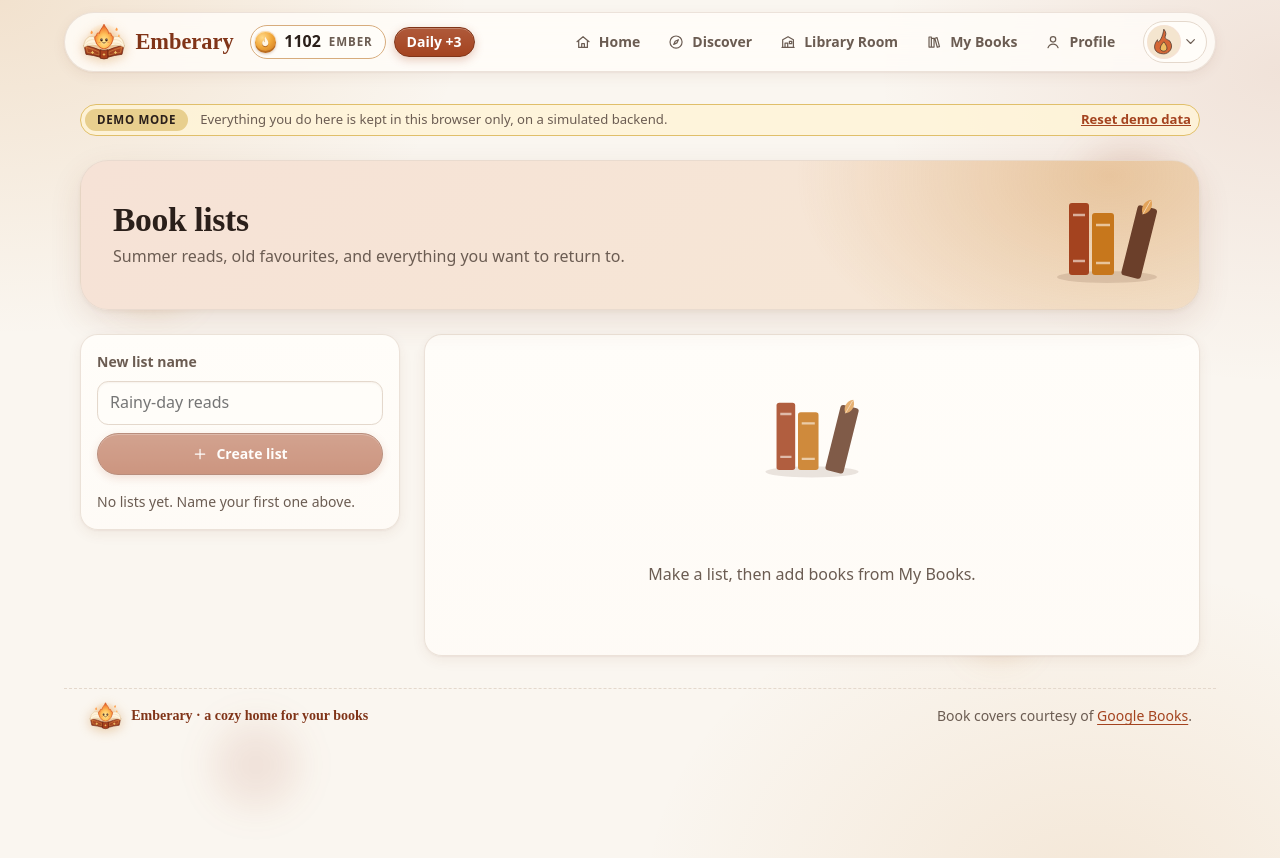
Test: Lists creates a list, adds an owned book, and links to its details
Type "Summer reads" into the field labelled "New list name" at (240, 403), box [97,381,383,425]
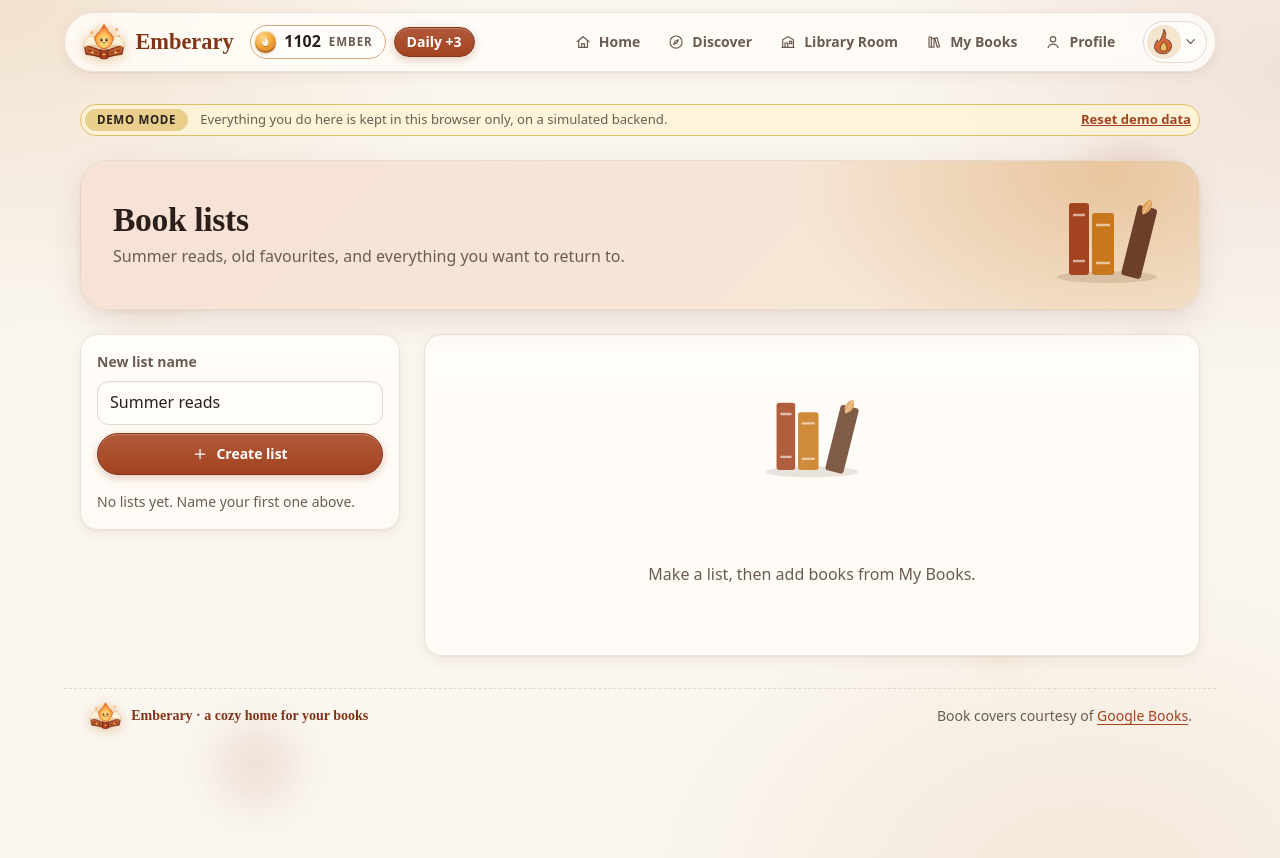
Submit the form "Create list", box [97,351,383,475]
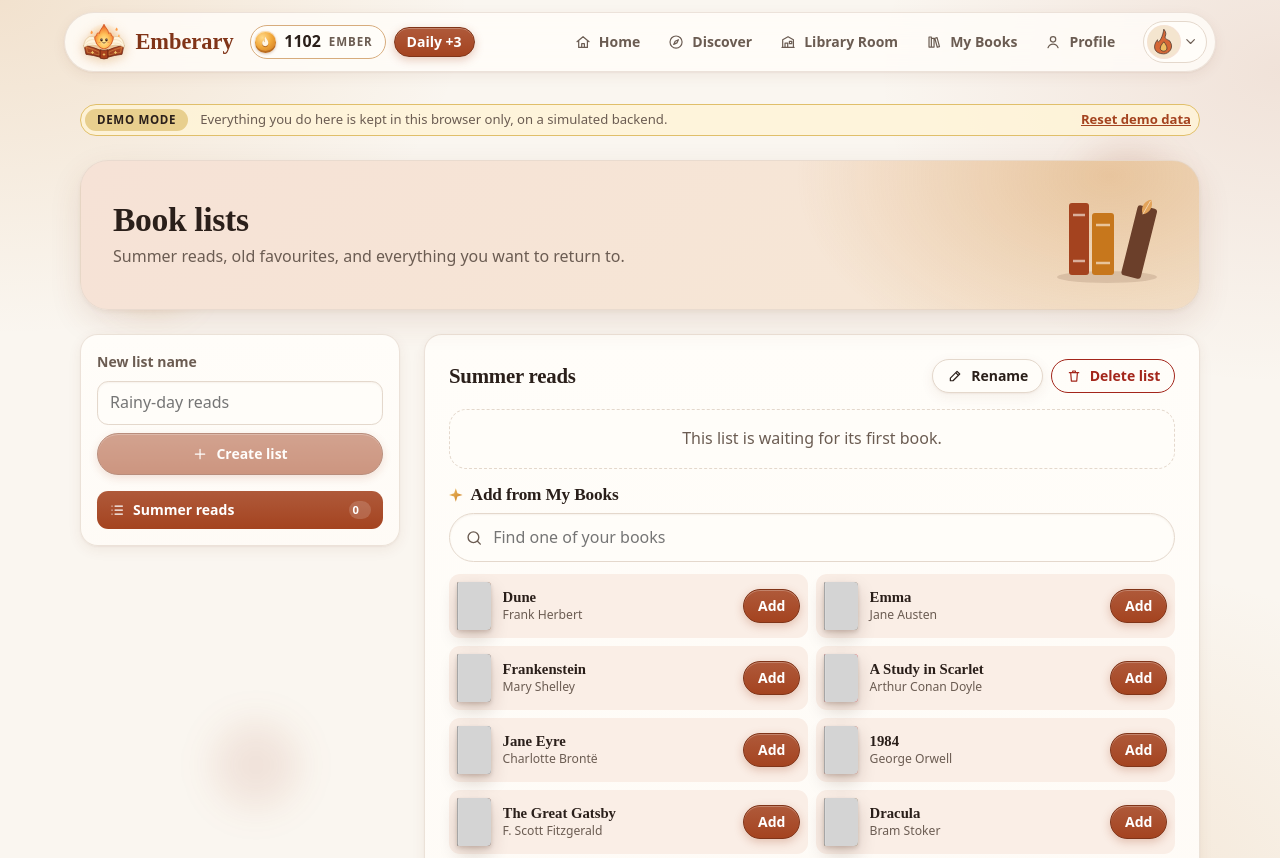
Result: the heading "Summer reads" is shown at [449,364,576,388]
Click the 1st button "Add" at (772, 606), box [743,589,800,623]
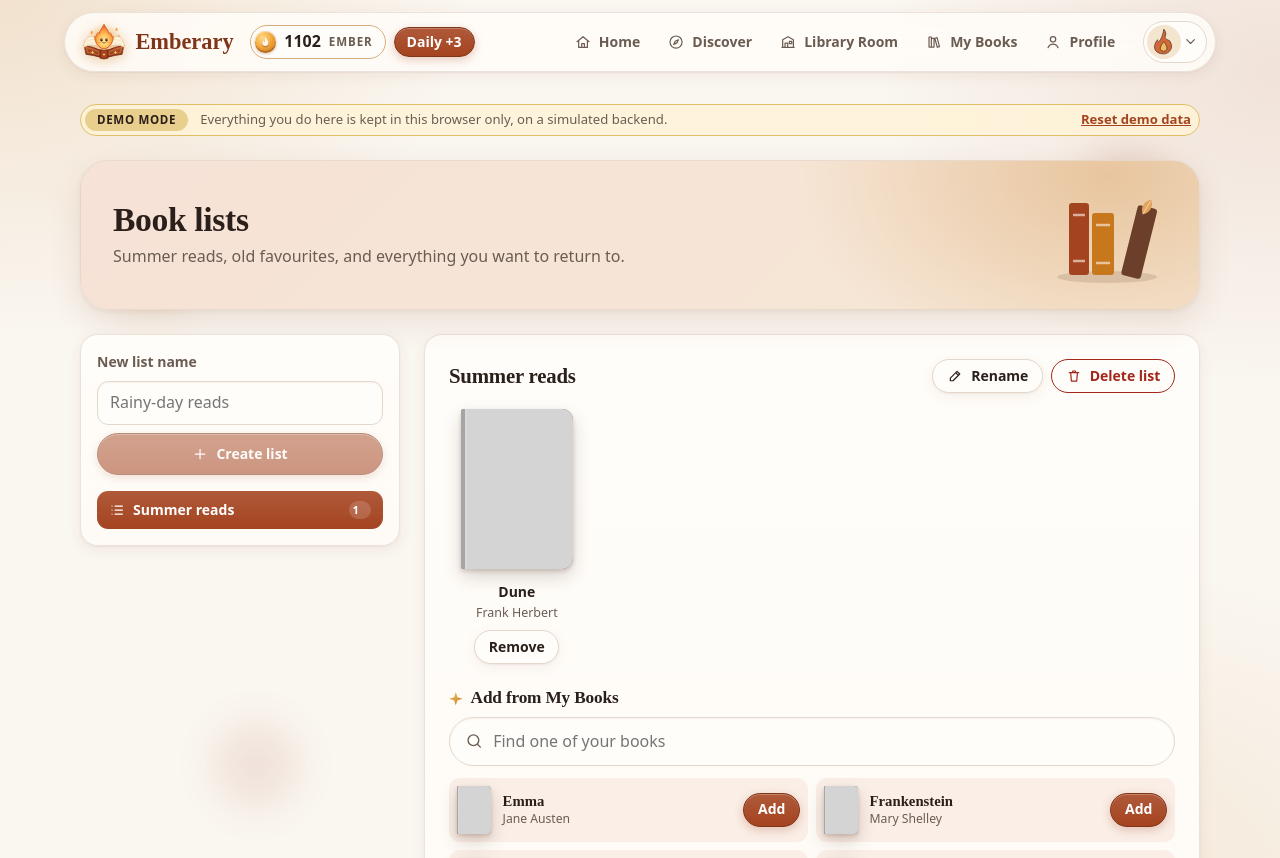
Result: the button "Remove" is shown at [474,630,559,664]
